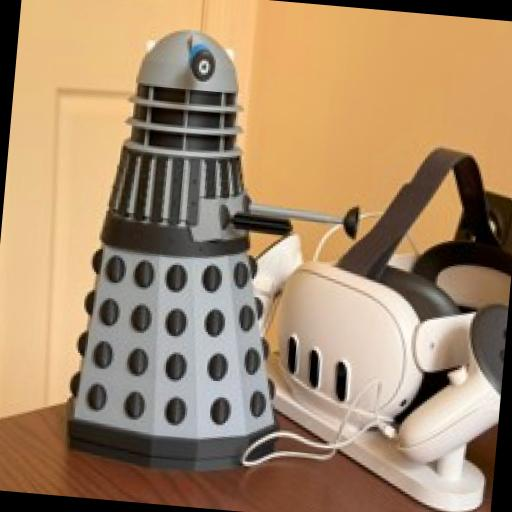dalek: (57, 22, 380, 484)
